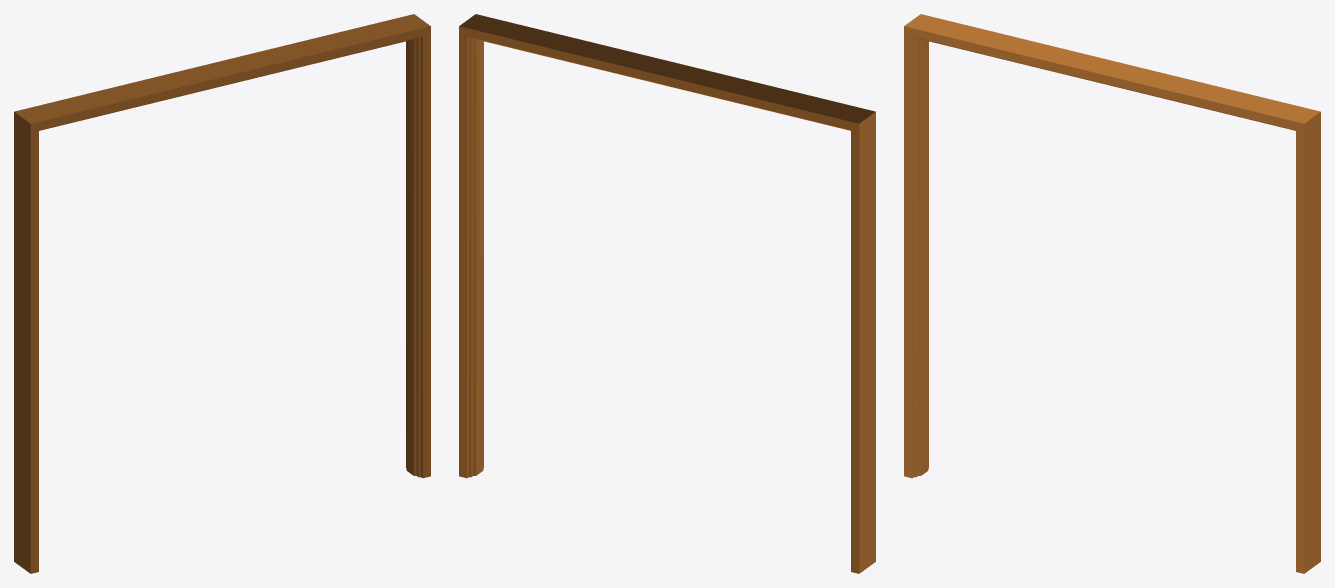
The model's file is Doorway_Double_7_mesh_4_0.obj.
3 views of the same model, side by side, from view 1: azimuth 30°, elevation 25°; view 2: azimuth 150°, elevation 25°; view 3: azimuth 330°, elevation 25° (orthographic).
Bounding box in the file's own units: 1.95 × 2.1 × 0.1408.
